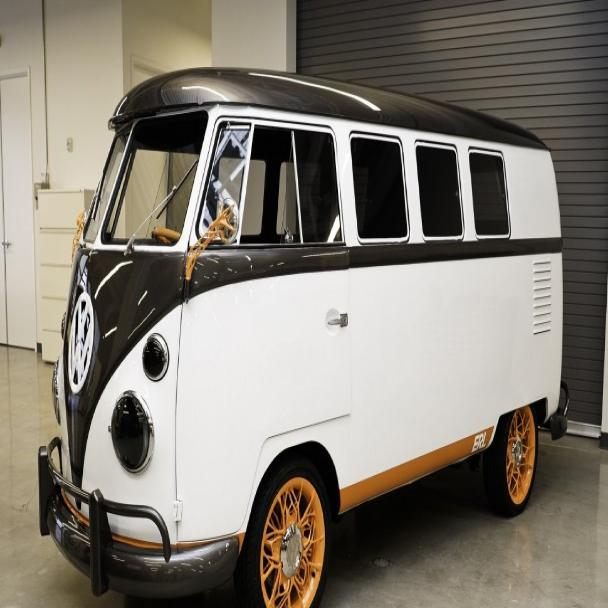Mobil: (33, 57, 589, 601)
